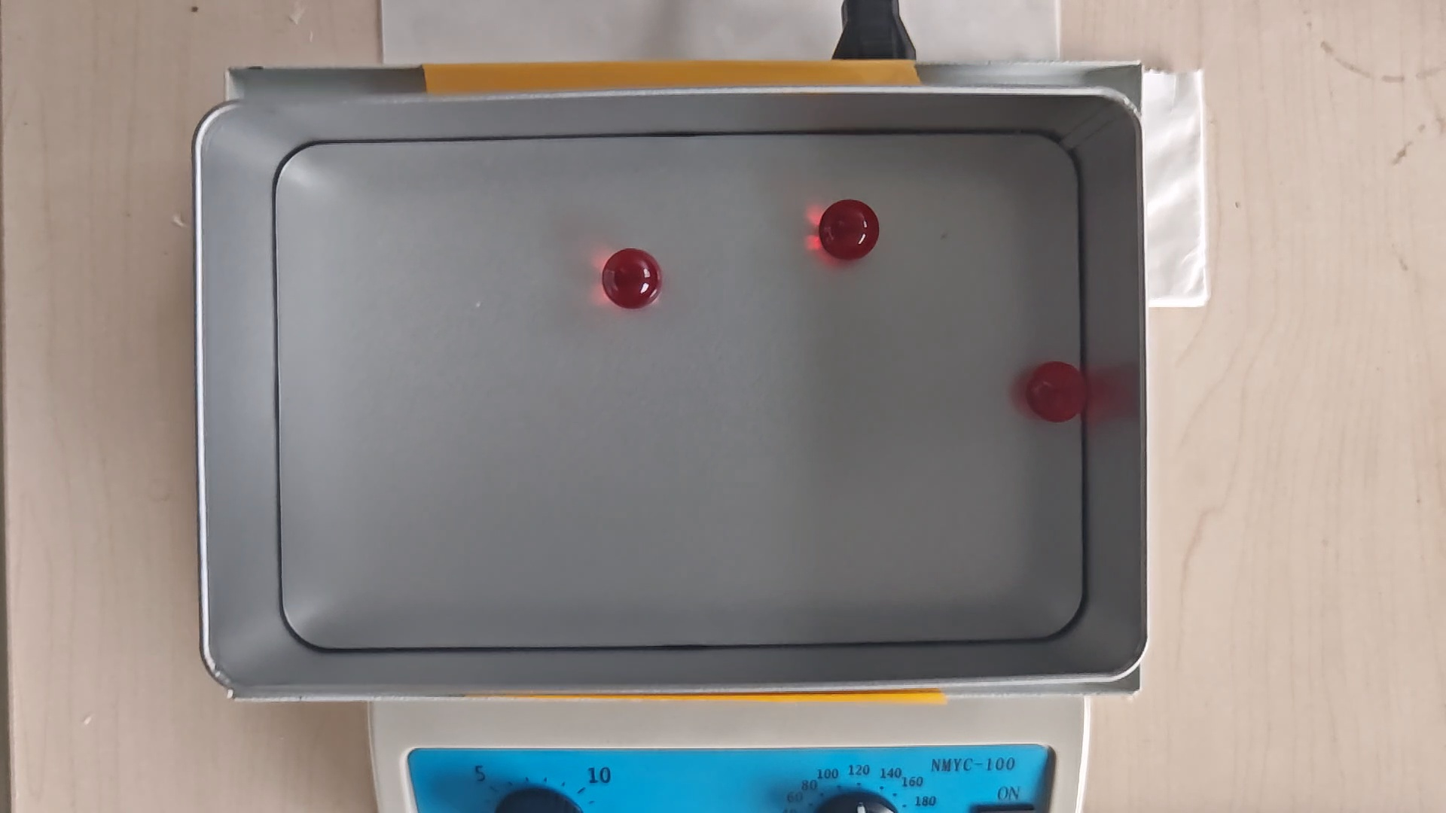ball: (1024, 362, 1088, 425), (601, 248, 663, 309), (819, 197, 878, 260)
container: (277, 132, 1083, 648)
